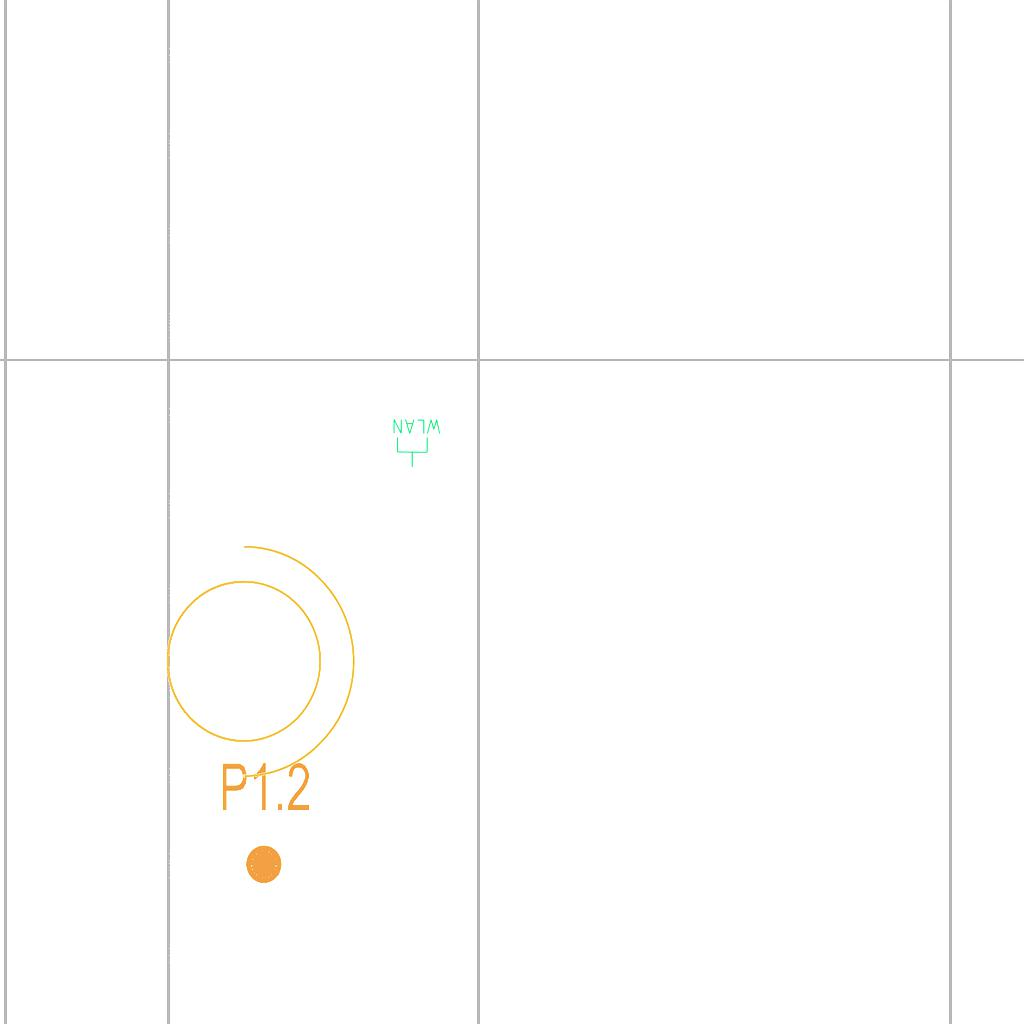Downlight_LED_Einbauleuchten_Flur: (219, 759, 312, 887)
Scheinwerfer_fuer_Alarmbeleuchtung: (141, 523, 366, 787)
WLAN: (391, 417, 443, 469)
